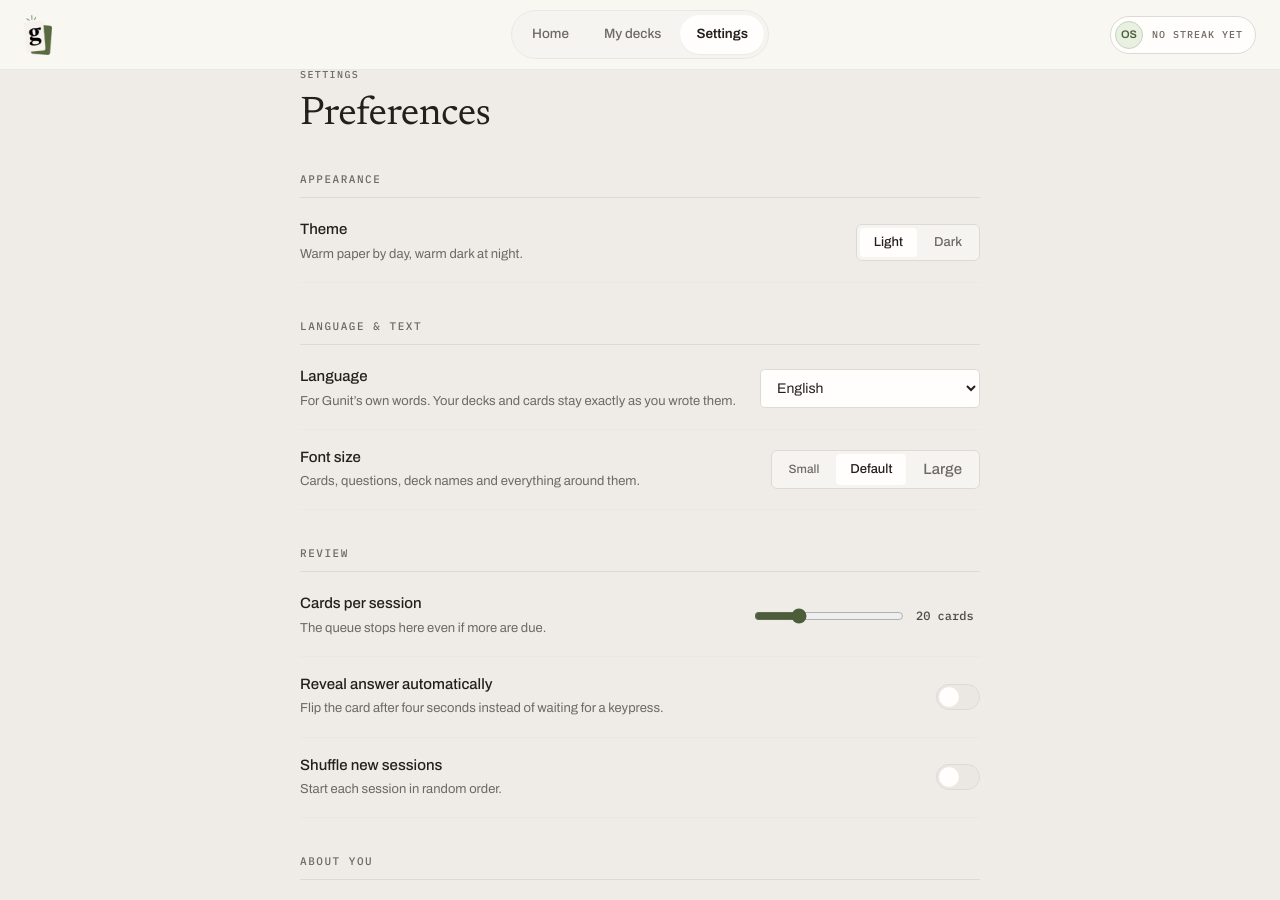
language › puts the whole page, and the navigation, into the language chosen at once
Expected: the heading "Preferences" is shown, top-left (300, 95), bottom-right (490, 135)
Select "Filipino" in the dropdown labelled "Language" at (870, 389), box top-left (760, 369), bottom-right (980, 408)
(page scrolled)
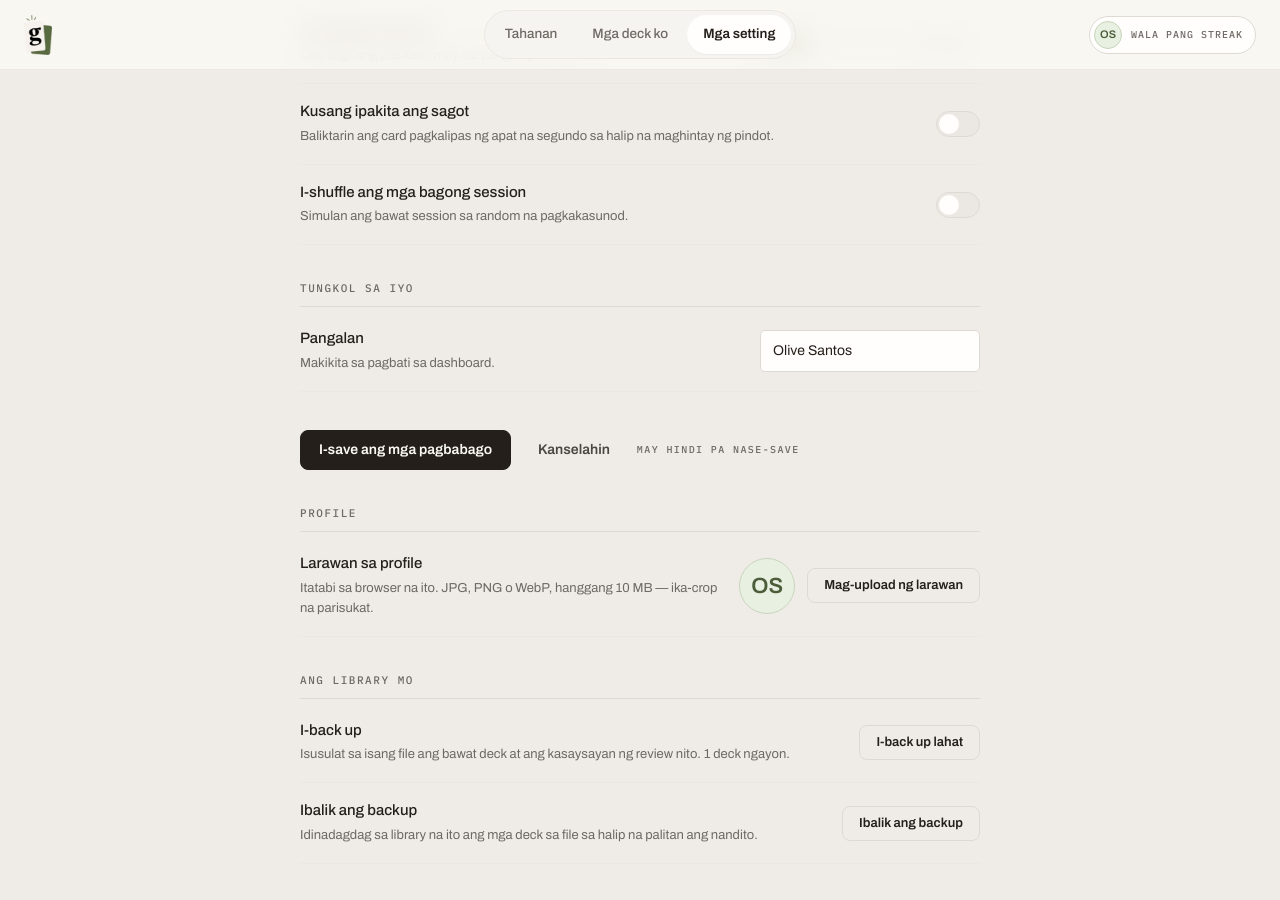
Expected: the link "Mga deck ko" is shown, top-left (592, 26), bottom-right (668, 41)
Expected: the button "I-save ang mga pagbabago" is shown, top-left (300, 430), bottom-right (511, 470)
